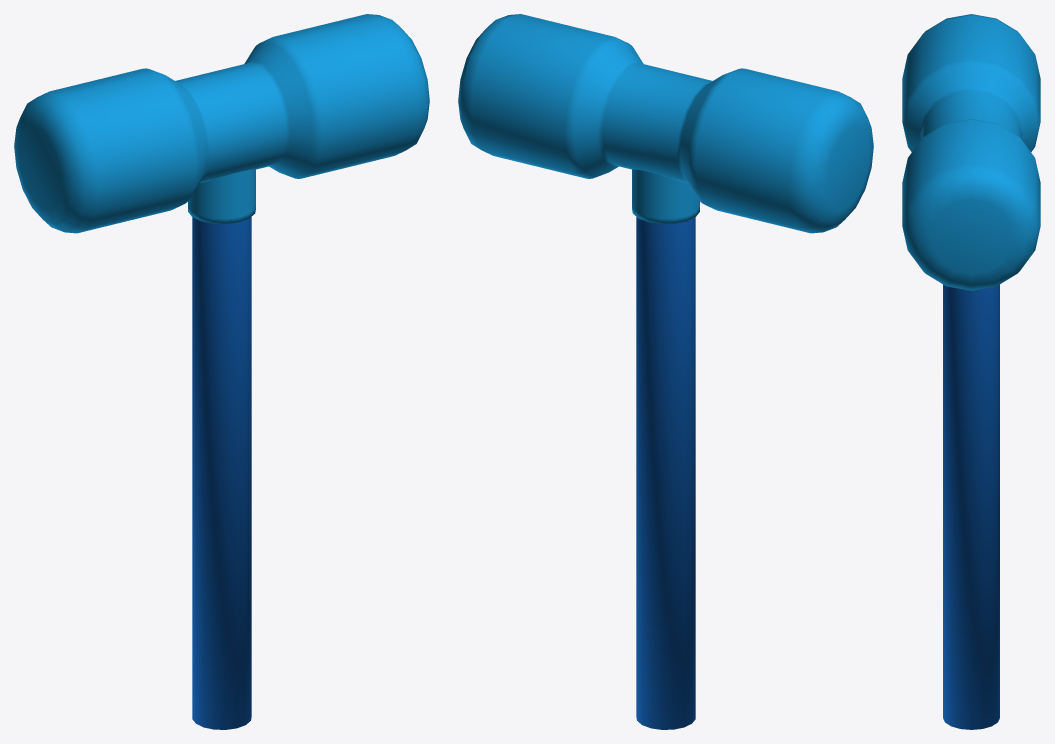
File: hammer_blue.fbx
3 renders of one model, left to right at view 1: azimuth 30°, elevation 25°; view 2: azimuth 150°, elevation 25°; view 3: azimuth 270°, elevation 25°, orthographic. The views are drawn at different scales.
Visible parts, largest first — view 1: hammer_blue; view 2: hammer_blue; view 3: hammer_blue.
Part boxes in pixels (left/top/right/bottom): hammer_blue: left=14, top=14, right=429, bottom=729; hammer_blue: left=458, top=14, right=873, bottom=729; hammer_blue: left=902, top=14, right=1040, bottom=729.
Bounding box in the file's own units: 0.7089 × 1.23 × 0.2449.
